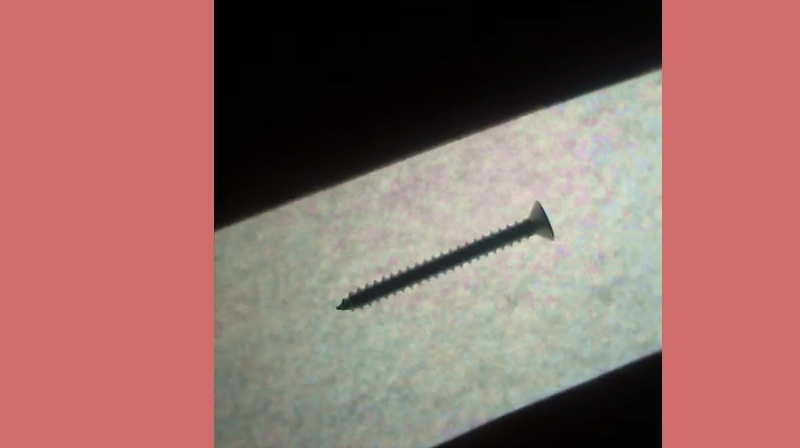S002: (330, 198, 555, 314)
